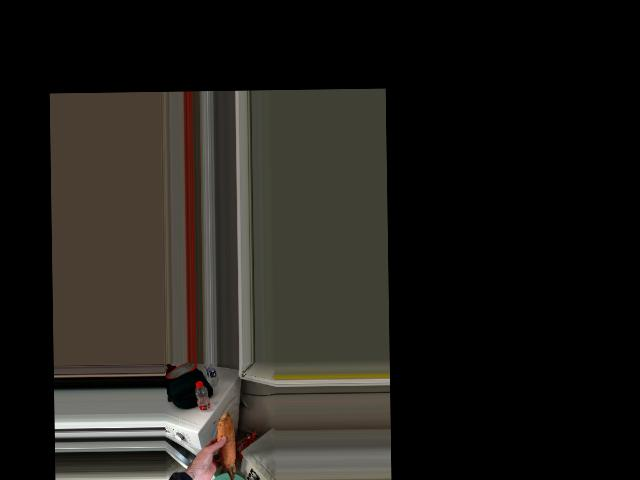sweet_potato: (214, 417, 237, 477)
